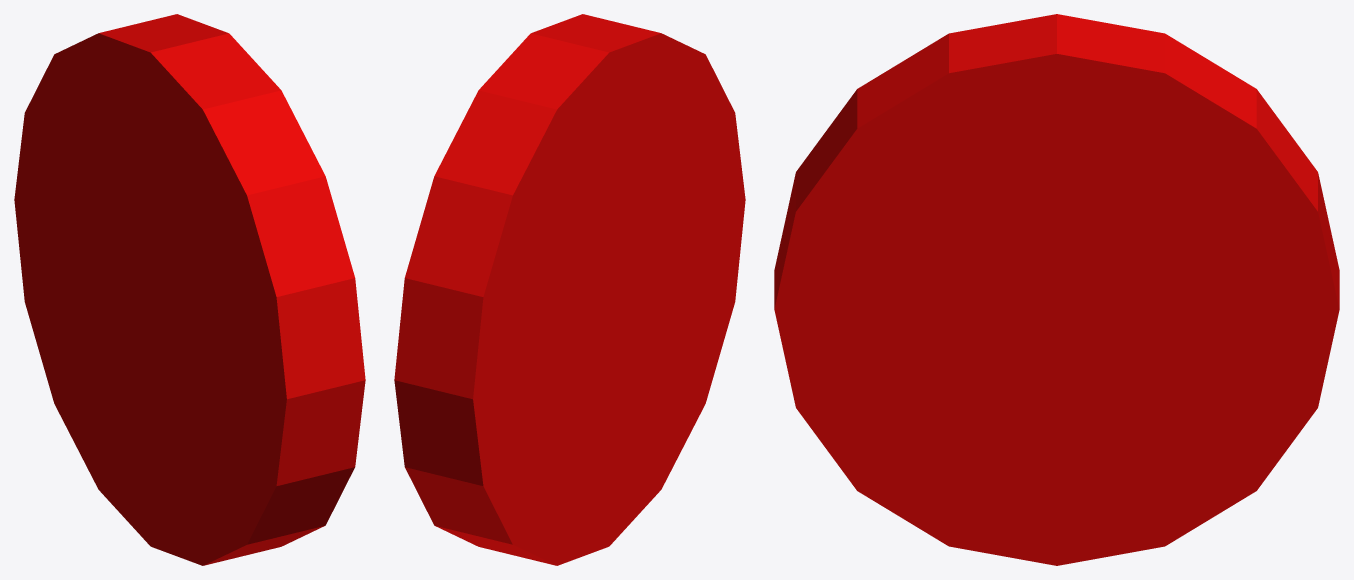
Rendered from LoadCenter_Indicator.fbx.
3 renders of one model, left to right at view 1: azimuth 30°, elevation 25°; view 2: azimuth 150°, elevation 25°; view 3: azimuth 270°, elevation 25°, orthographic. The views are drawn at different scales.
Parts seen in each view (by area): view 1: Indicator; view 2: Indicator; view 3: Indicator.
Boxes of the visible parts, x1,y1,x2,y2 form: Indicator: (14,14,365,565); Indicator: (394,14,745,565); Indicator: (774,14,1339,565).
Size of the model in its own units: 3 by 3 by 0.5.
